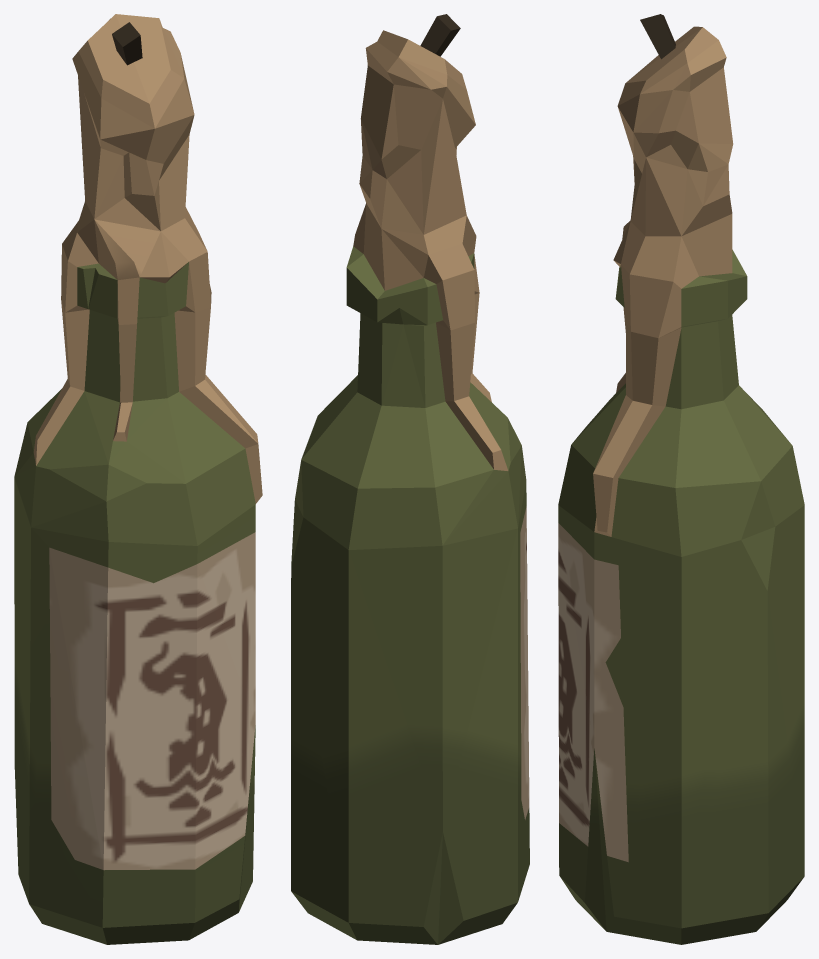
Rendered from SM_Prop_Candle_07.fbx.
3 views of the same model, side by side, from view 1: azimuth 30°, elevation 25°; view 2: azimuth 150°, elevation 25°; view 3: azimuth 270°, elevation 25° (orthographic).
Parts seen in each view (by area): view 1: SM_Prop_Candle_07; view 2: SM_Prop_Candle_07; view 3: SM_Prop_Candle_07.
Part boxes in pixels (left/top/right/bottom): SM_Prop_Candle_07: left=14, top=14, right=262, bottom=944; SM_Prop_Candle_07: left=291, top=14, right=529, bottom=944; SM_Prop_Candle_07: left=558, top=14, right=804, bottom=944.
Size of the model in its own units: 12.81 by 50.58 by 12.86.
